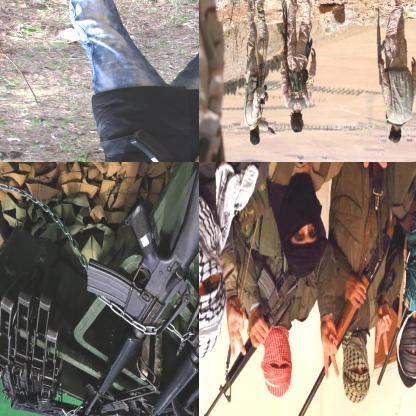rifle: (80, 162, 198, 415), (293, 217, 396, 415), (138, 162, 198, 415), (199, 269, 300, 415), (11, 128, 198, 161), (368, 162, 415, 265), (8, 380, 108, 415), (369, 6, 387, 86), (275, 0, 293, 73)
